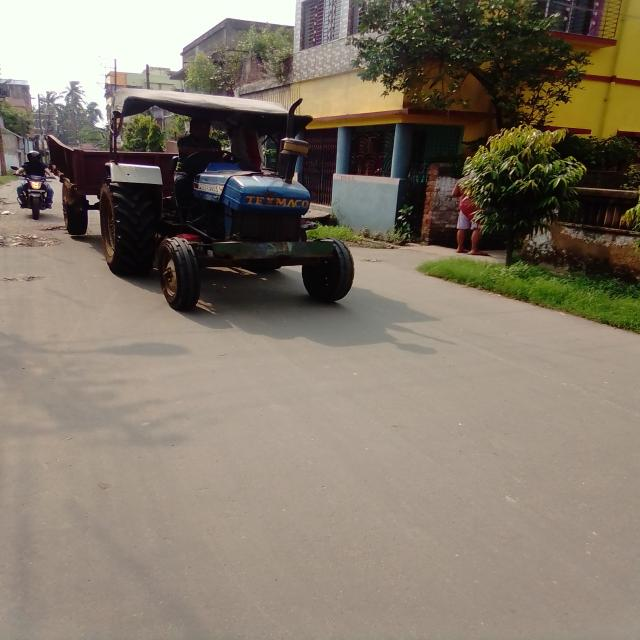Tractor: (60, 100, 392, 322)
